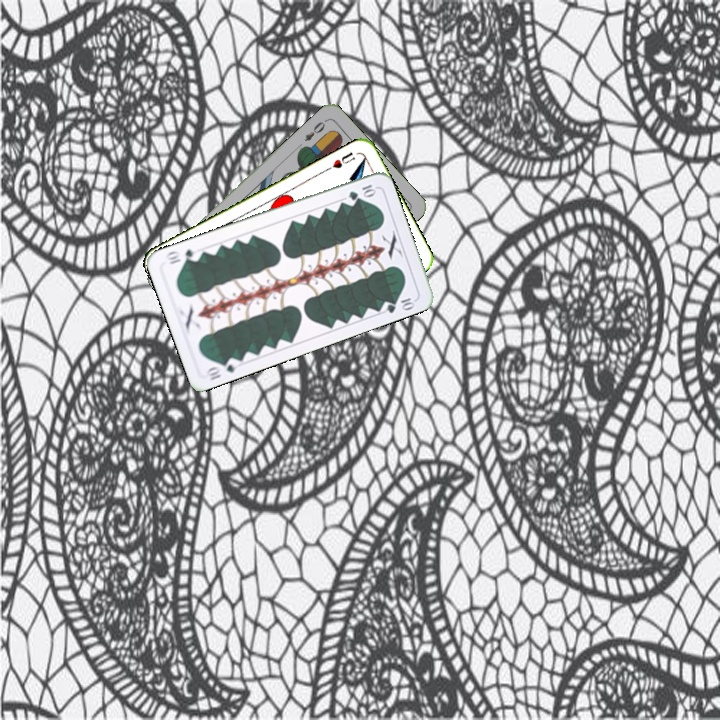EO: (300, 115, 329, 144)
G10: (203, 354, 242, 383), (344, 180, 378, 203)
HU: (328, 148, 358, 171)
